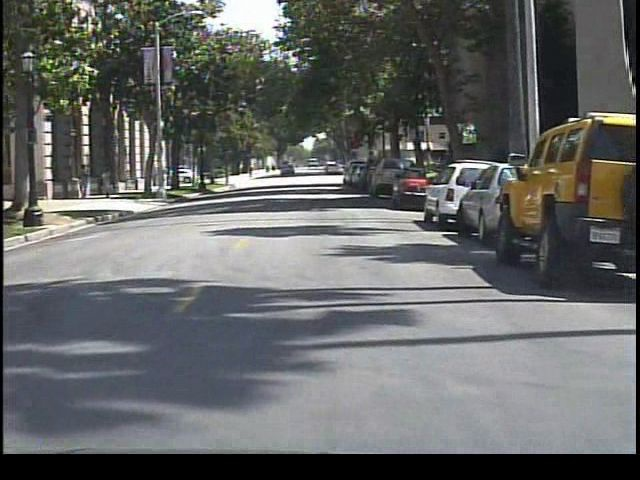person: (97, 162, 121, 199), (74, 161, 95, 203)
